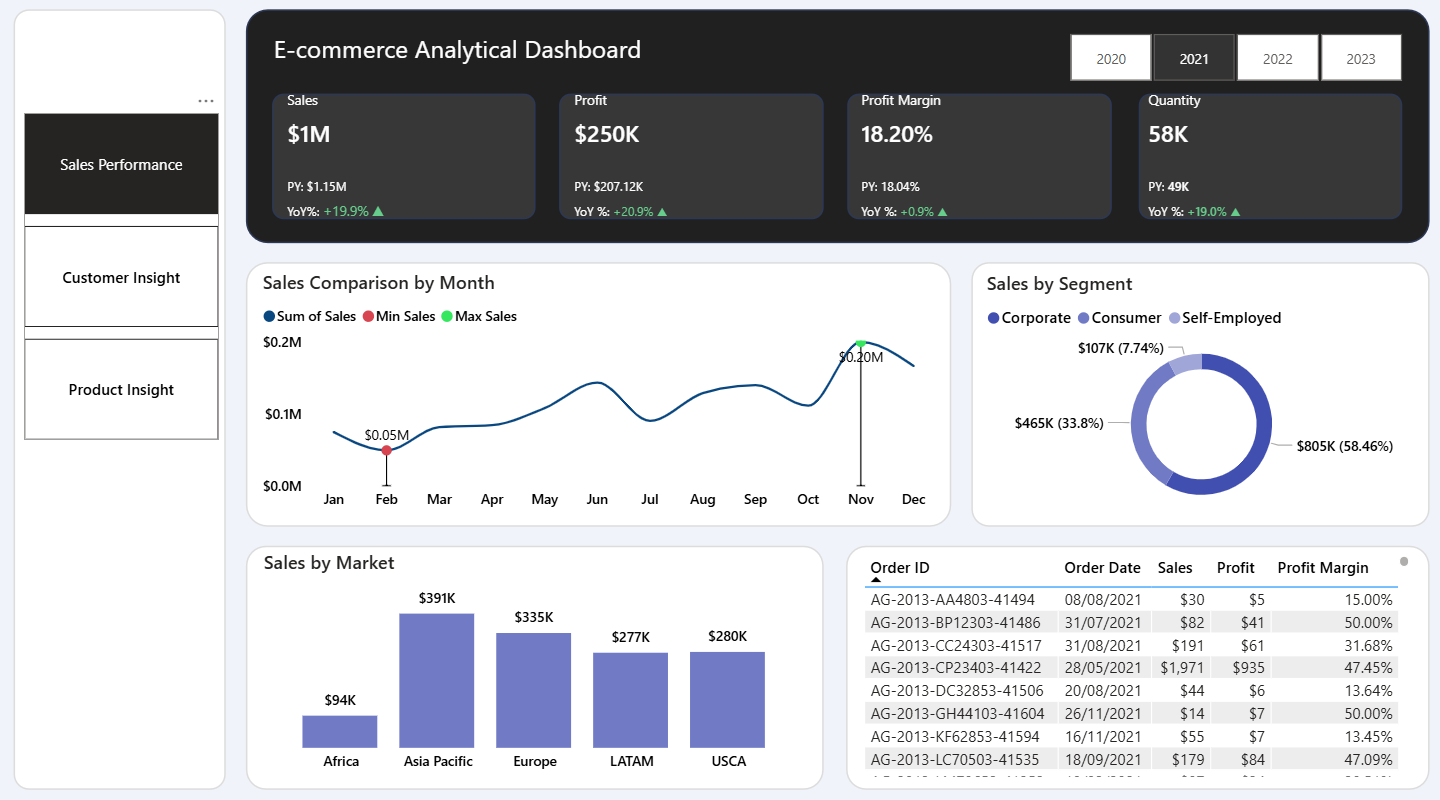

Layout of this report page (visuals, bound fields, positions):
{"tool":"powerbi","page":{"name":"Sales Performance","canvas":[1280,720],"ordinal":0},"visuals":[{"type":"cardVisual","fields":{"Data":["Measures Table.Sales","Measures Table.Profit","Measures Table.Profit Margin","Measures Table.Quantity"]},"box":[242,73,1019,147],"z":0},{"type":"lineChart","title":"Sales Comparison by Month","fields":{"Y":["Sum(FactSales.Sales)","Measures Table.Min Sales","Measures Table.Max Sales"],"Category":["Dim Date.Month"]},"box":[233,245,600,219.5],"z":2000},{"type":"clusteredColumnChart","fields":{"Category":["DimLocation.Market","DimLocation.Region","DimLocation.Country","DimLocation.State","DimLocation.City"],"Y":["Measures Table.Sales"]},"box":[233.6,490.8,486.4,203.7],"z":3000},{"type":"donutChart","fields":{"Y":["Measures Table.Sales"],"Category":["DimCustomer.Segment"]},"box":[868,245.9,387.2,219.5],"z":4000},{"type":"tableEx","fields":{"Values":["FactSales.Order ID","FactSales.Order Date","Measures Table.Sales","Measures Table.Profit","Measures Table.Profit Margin"]},"box":[760.4,490.8,489.1,203.7],"z":5000},{"type":"pageNavigator","box":[28.1,107.1,171.2,287.1],"z":6000},{"type":"textbox","box":[242.3,30.7,359.1,55.3],"z":6001},{"type":"slicer","fields":{"Values":["Dim Date.Year"]},"box":[921.1,30.7,340.7,55.3],"z":6002}]}

Visuals, with their boxes on the page's 1280x720 design canvas (x1, y1, x2, y2). These are canvas units, not pixel positions in the 1440x800 screenshot, which may show the page scaled, cropped or inside an application window:
cardVisual - Measures Table.Sales x Measures Table.Profit: (242, 73, 1261, 220)
"Sales Comparison by Month" lineChart: (233, 245, 833, 464)
clusteredColumnChart - DimLocation.Market x DimLocation.Region: (234, 491, 720, 694)
donutChart - Measures Table.Sales x DimCustomer.Segment: (868, 246, 1255, 465)
tableEx - FactSales.Order ID x FactSales.Order Date: (760, 491, 1250, 694)
pageNavigator: (28, 107, 199, 394)
textbox: (242, 31, 601, 86)
slicer - Dim Date.Year: (921, 31, 1262, 86)
